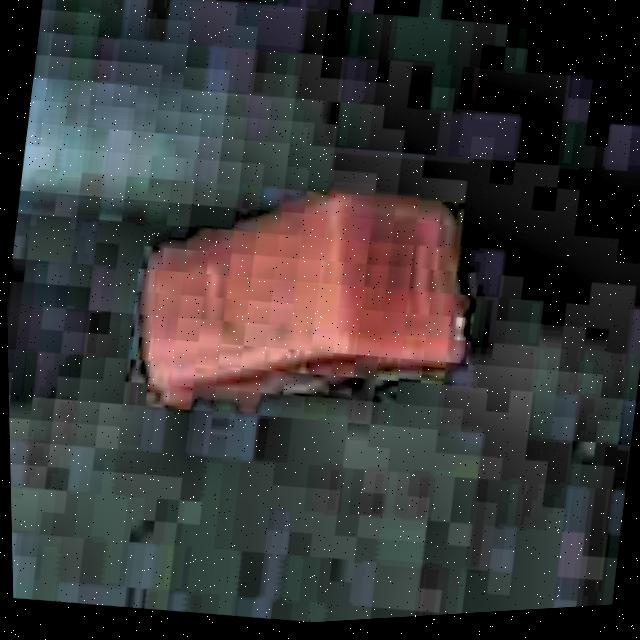bus: (117, 154, 501, 456)
